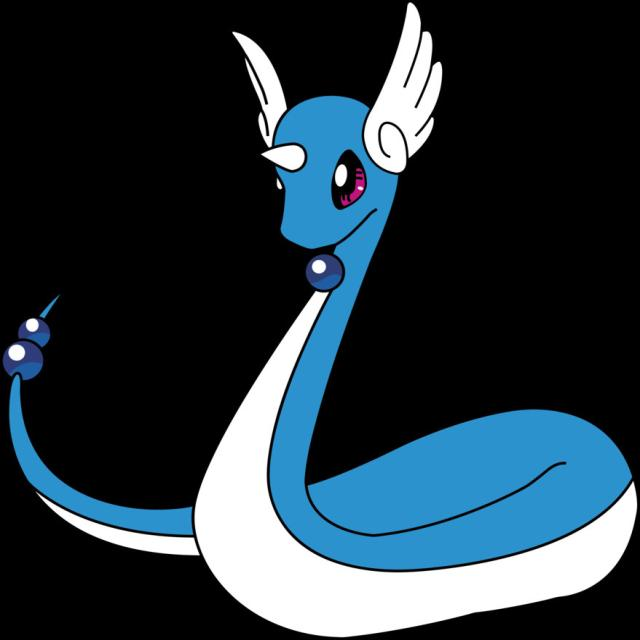Dragonair: (218, 24, 635, 640)
